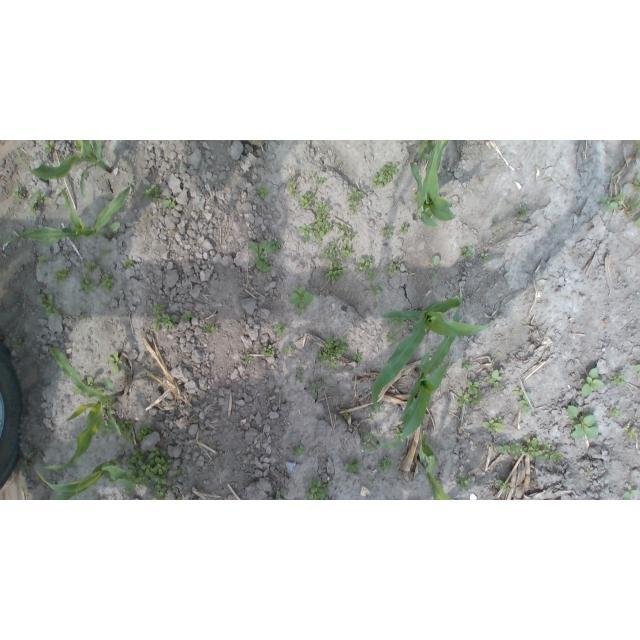Maize: (368, 285, 463, 447), (372, 296, 491, 408), (44, 346, 124, 472), (0, 172, 132, 244), (14, 141, 113, 200), (37, 453, 136, 500), (409, 140, 455, 229), (412, 437, 454, 500)
Weeds: (567, 405, 600, 439), (316, 335, 348, 370), (146, 445, 172, 485), (125, 447, 150, 485), (312, 199, 333, 241), (580, 368, 606, 399), (248, 239, 271, 274), (372, 163, 400, 190), (455, 379, 481, 407), (305, 476, 331, 500), (599, 192, 626, 213), (496, 440, 524, 460), (354, 256, 377, 280), (326, 256, 347, 282), (40, 293, 61, 319), (289, 285, 314, 306), (541, 441, 564, 463), (80, 377, 105, 396), (523, 436, 542, 461), (152, 314, 176, 333), (307, 377, 326, 400), (28, 190, 44, 217), (481, 417, 503, 436), (485, 370, 504, 391), (107, 350, 123, 374), (142, 184, 163, 202), (119, 421, 134, 444), (360, 431, 377, 451), (336, 223, 357, 239), (321, 240, 339, 258), (299, 190, 316, 209), (100, 273, 117, 292), (53, 267, 70, 285), (368, 401, 385, 419), (384, 258, 400, 277), (519, 392, 532, 414), (80, 273, 94, 293), (428, 257, 440, 280), (347, 188, 363, 205), (272, 321, 288, 338), (137, 424, 153, 441), (344, 458, 360, 475), (378, 457, 394, 474), (621, 485, 639, 500), (393, 424, 408, 442), (626, 198, 640, 217), (298, 225, 312, 244), (514, 205, 530, 221), (153, 485, 170, 500), (340, 240, 352, 261), (11, 186, 26, 202), (286, 181, 299, 199), (611, 372, 626, 387), (260, 344, 274, 359), (99, 420, 113, 435), (455, 475, 469, 490), (256, 185, 270, 199), (385, 332, 399, 346), (498, 479, 512, 493), (370, 283, 383, 298), (381, 225, 395, 238), (460, 246, 474, 259), (270, 239, 283, 253), (150, 303, 164, 316), (389, 316, 404, 328), (44, 140, 55, 156), (295, 368, 305, 385), (294, 303, 307, 316), (11, 336, 24, 349), (162, 198, 176, 210), (609, 406, 621, 419), (241, 352, 254, 364), (204, 321, 216, 334), (461, 358, 472, 371), (86, 260, 97, 273), (624, 427, 638, 437), (511, 387, 526, 396), (182, 311, 194, 322), (37, 254, 48, 266), (352, 350, 362, 362), (275, 488, 284, 501), (481, 251, 492, 261), (295, 445, 306, 455), (634, 173, 640, 191), (124, 258, 134, 268), (289, 340, 297, 352), (347, 205, 359, 213), (400, 223, 409, 233), (491, 216, 499, 227), (314, 178, 326, 185), (27, 450, 36, 459), (74, 386, 83, 395), (81, 312, 91, 320), (90, 492, 100, 499), (635, 141, 640, 154), (23, 460, 30, 469), (174, 466, 181, 475), (634, 217, 640, 227), (635, 362, 640, 374), (281, 347, 291, 353), (104, 249, 111, 257), (172, 485, 178, 494), (343, 411, 349, 420), (103, 400, 110, 407), (585, 468, 591, 476), (85, 393, 91, 401), (308, 173, 315, 179), (176, 494, 183, 500), (414, 193, 418, 203), (378, 428, 383, 435), (492, 233, 498, 238), (95, 258, 101, 263), (30, 157, 35, 162), (101, 497, 108, 500), (571, 251, 575, 254)
